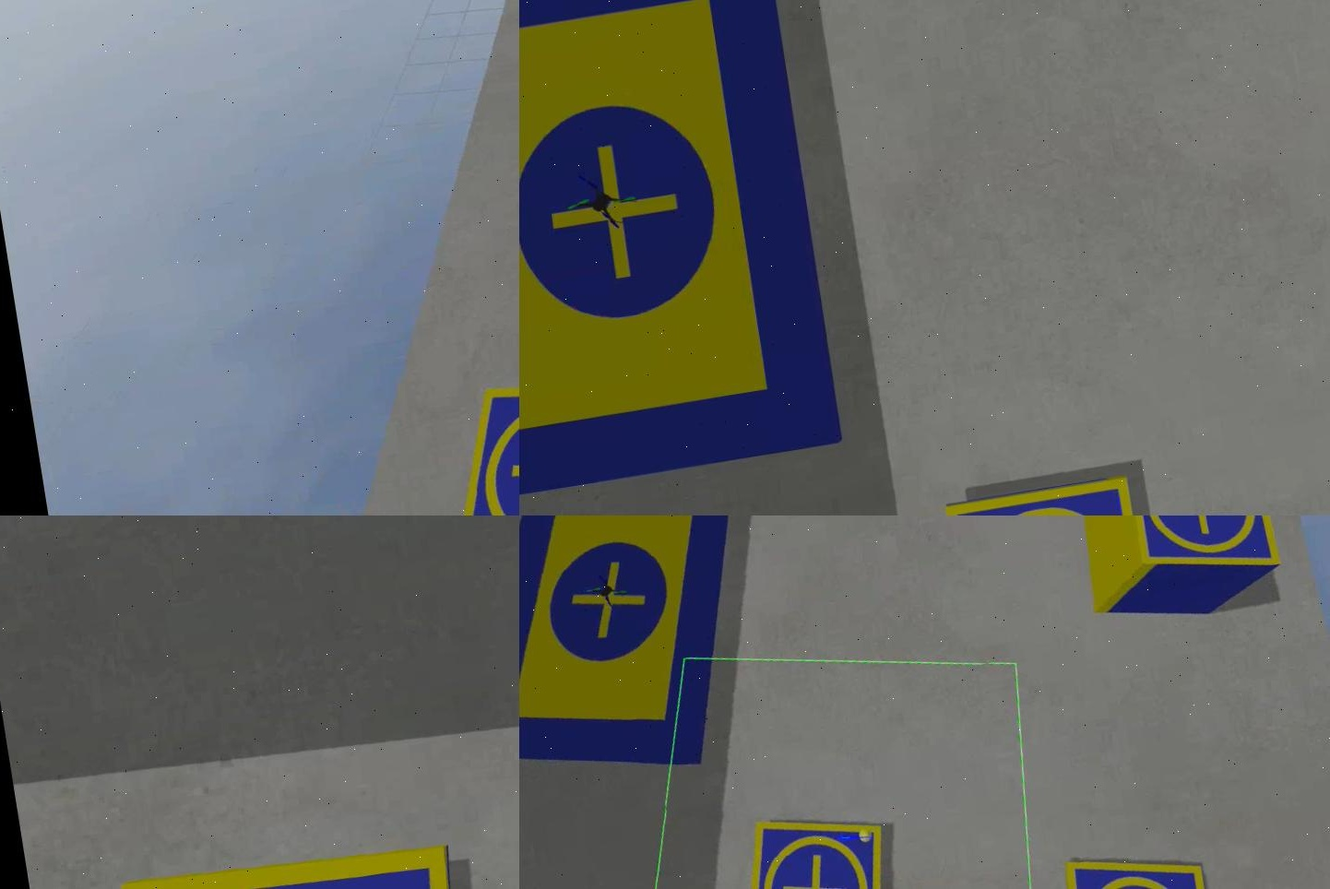large_base: (517, 1, 844, 495), (517, 516, 780, 797)
small_base: (84, 830, 478, 889), (722, 802, 901, 889), (1117, 516, 1284, 594), (441, 363, 517, 516), (944, 473, 1149, 516), (1055, 839, 1207, 889)
